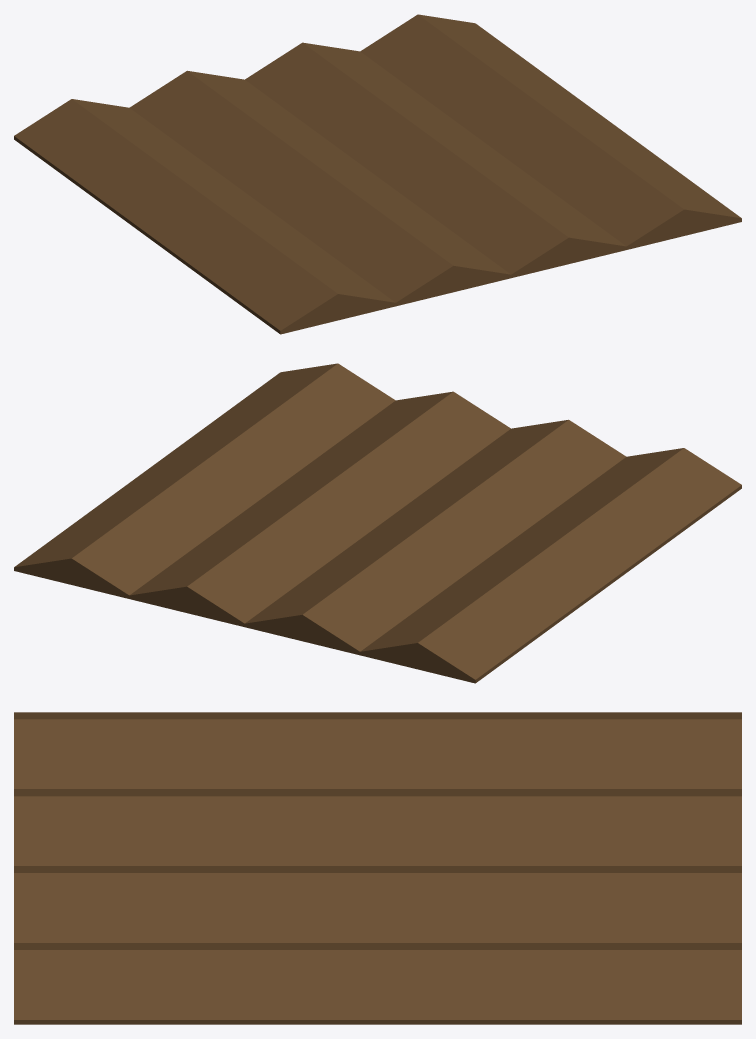
The model's file is Mesh_Landscape_Mud_01.FBX.
3 renders of one model, top to bottom at view 1: azimuth 30°, elevation 25°; view 2: azimuth 150°, elevation 25°; view 3: azimuth 270°, elevation 25°, orthographic. The views are drawn at different scales.
Visible parts, largest first — view 1: Mesh_Landscape_Mud_01; view 2: Mesh_Landscape_Mud_01; view 3: Mesh_Landscape_Mud_01.
Part boxes in pixels (bbox=[...]): Mesh_Landscape_Mud_01: bbox=[14, 14, 741, 334]; Mesh_Landscape_Mud_01: bbox=[14, 363, 741, 683]; Mesh_Landscape_Mud_01: bbox=[14, 712, 741, 1024].
Bounding box in the file's own units: 400 × 400 × 22.
